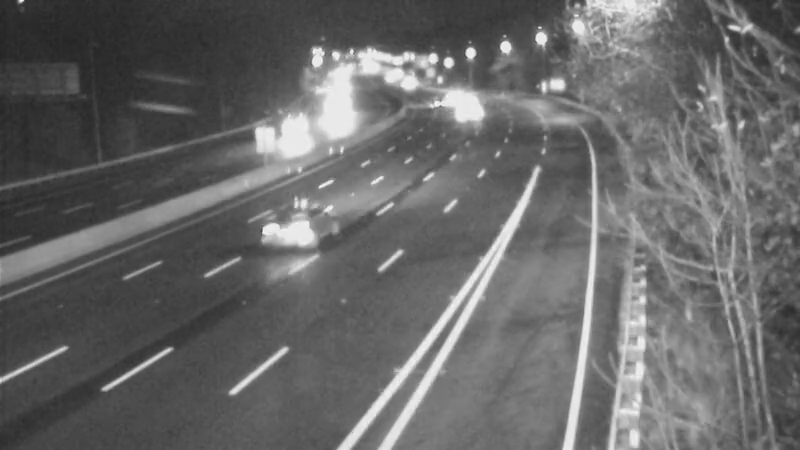vehicle: (247, 190, 327, 270), (437, 76, 487, 126), (408, 78, 458, 128), (441, 90, 491, 140), (274, 104, 324, 154)
